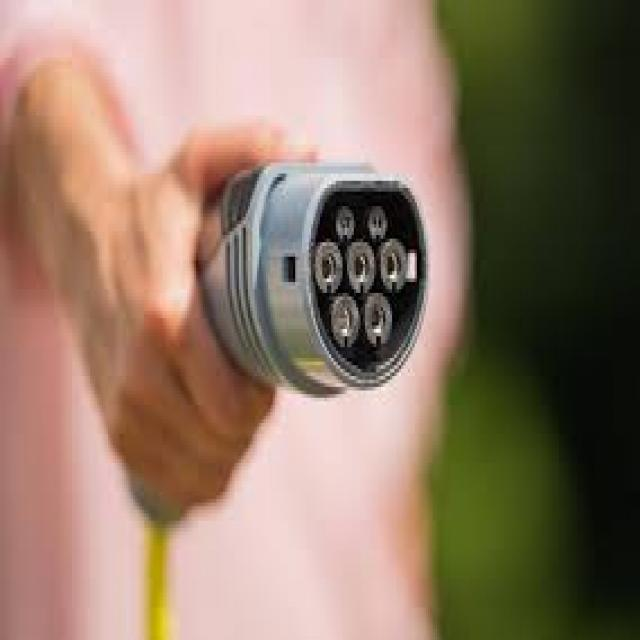Type 2: (276, 152, 473, 401)
